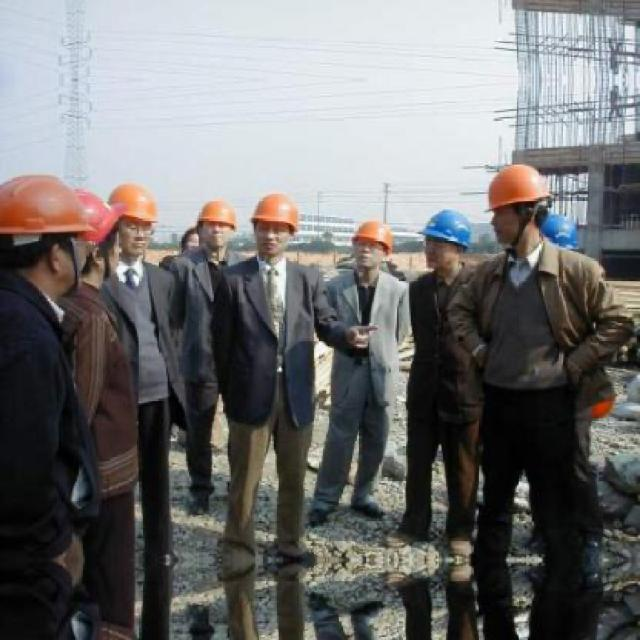con casco: (0, 166, 123, 284), (108, 118, 178, 292), (57, 174, 150, 291), (337, 202, 424, 319), (234, 175, 342, 264), (485, 143, 570, 256), (409, 184, 462, 326), (186, 191, 264, 264)
